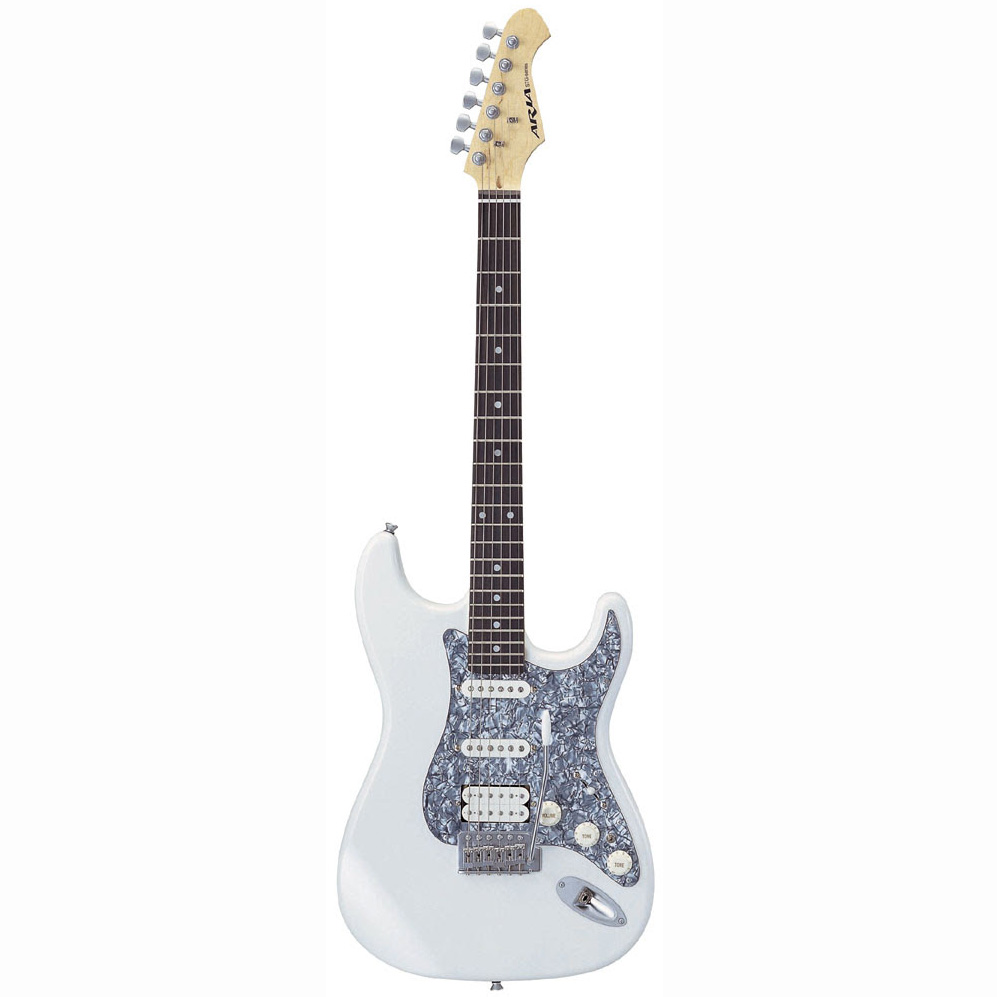ElectricGuitar: (327, 28, 682, 992)
